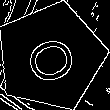O_NE: (18, 26, 84, 87)
